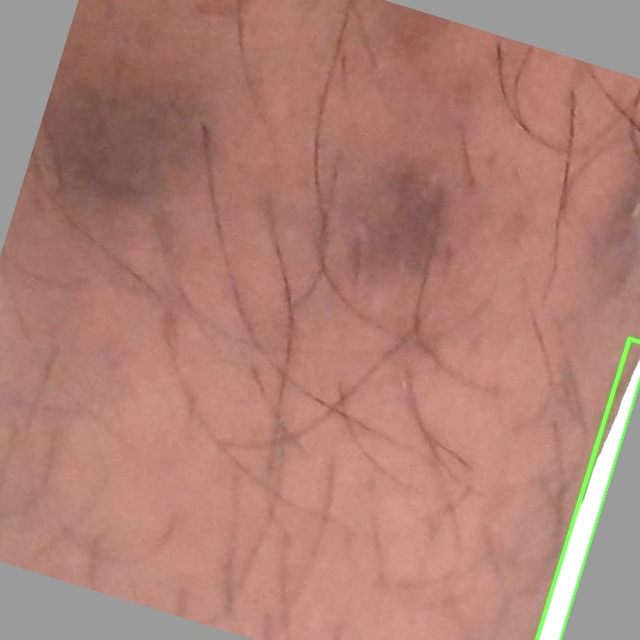Contact Dermatitis: (537, 338, 639, 639)
